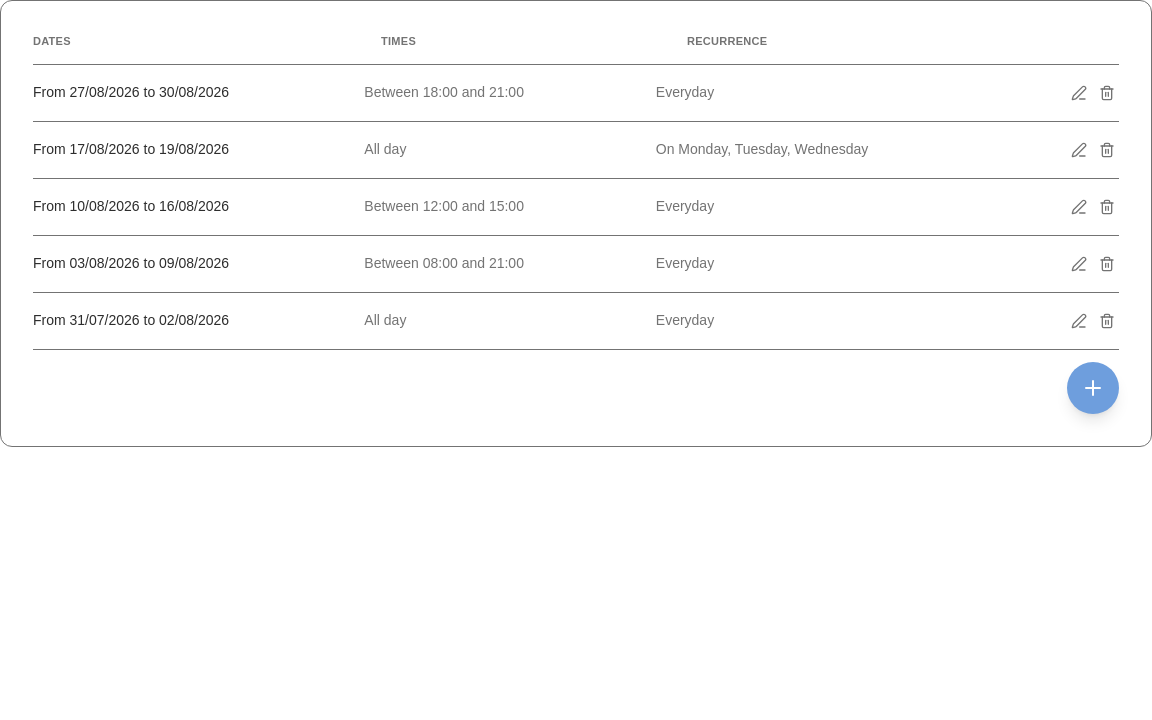
Test: Availability › adds a specific-date entry using the typed dd/mm/yyyy value
This screenshot has width=1152, height=720.
Click the button named "Add availability".
click(1093, 388)  # box [1067,362,1119,414]
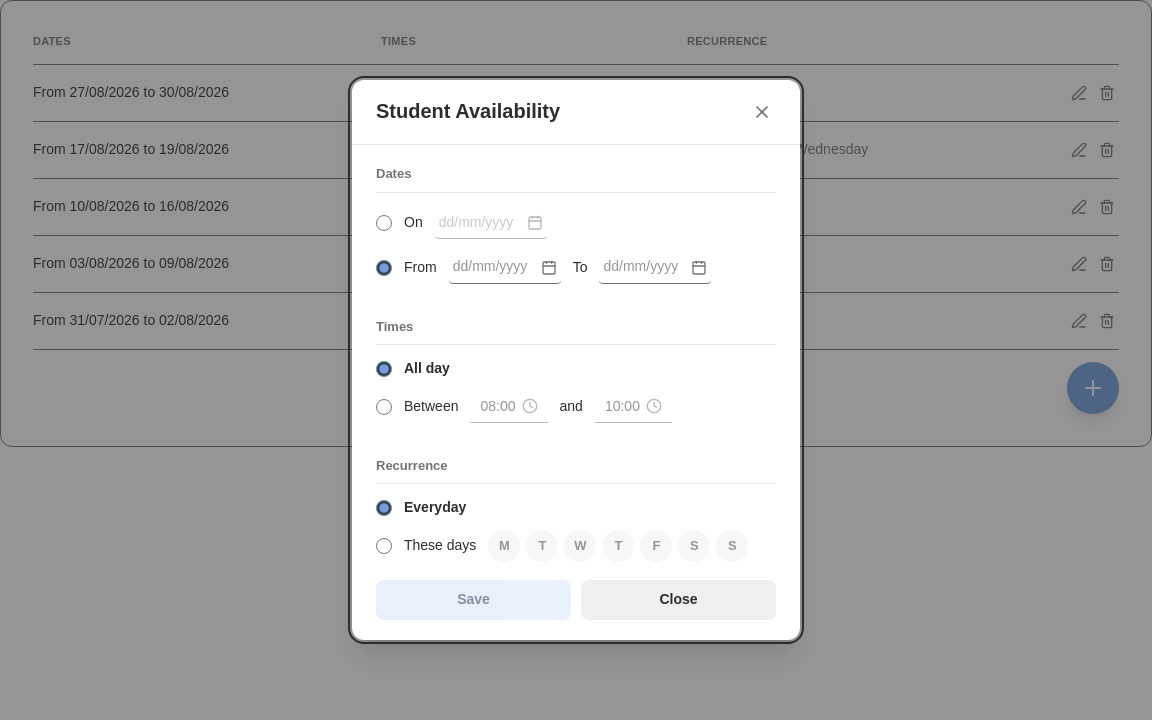
Click the radio button labelled "On".
click(384, 223)  # box [376,215,392,231]
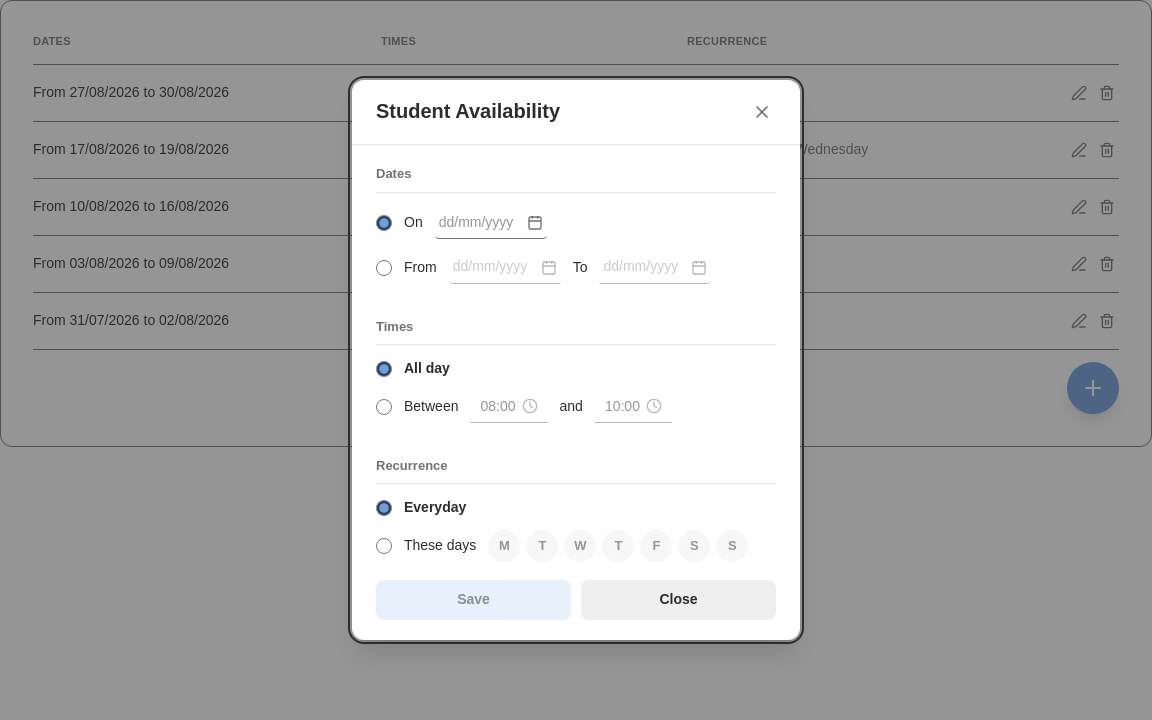
Type "27/08/2026" into the field named "Date".
click(491, 223); type("27/08/2026")  # box [435,207,547,239]
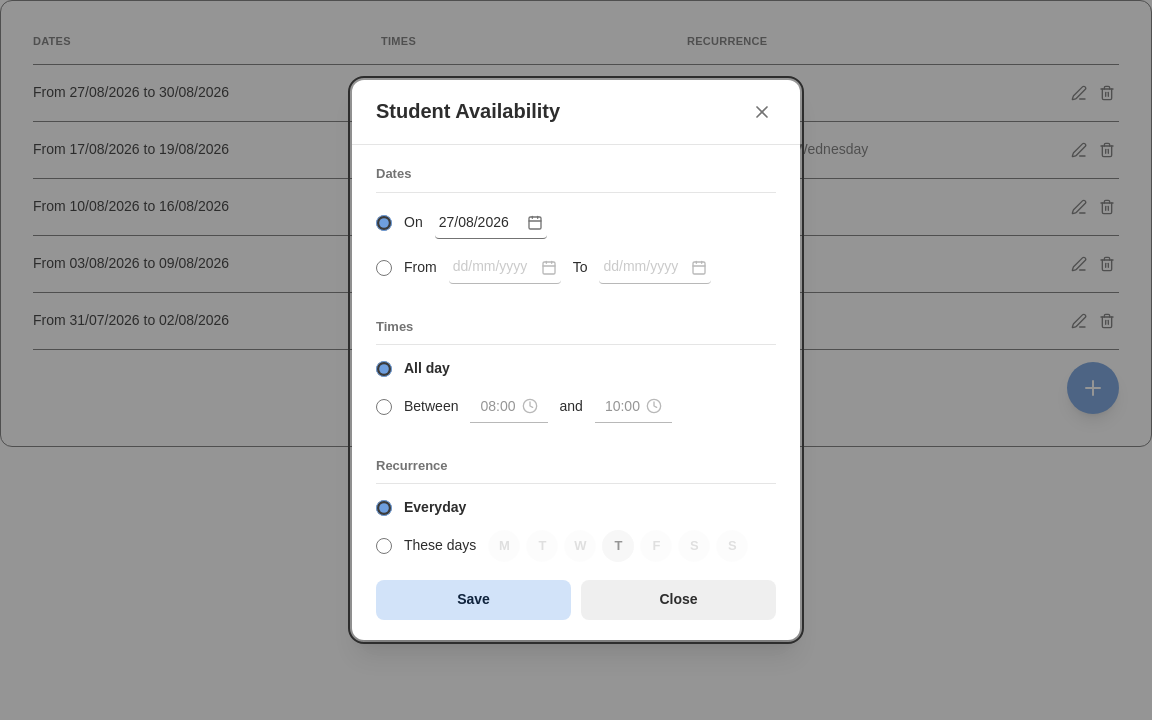
Click the button "Save".
click(474, 600)  # box [376,580,571,620]
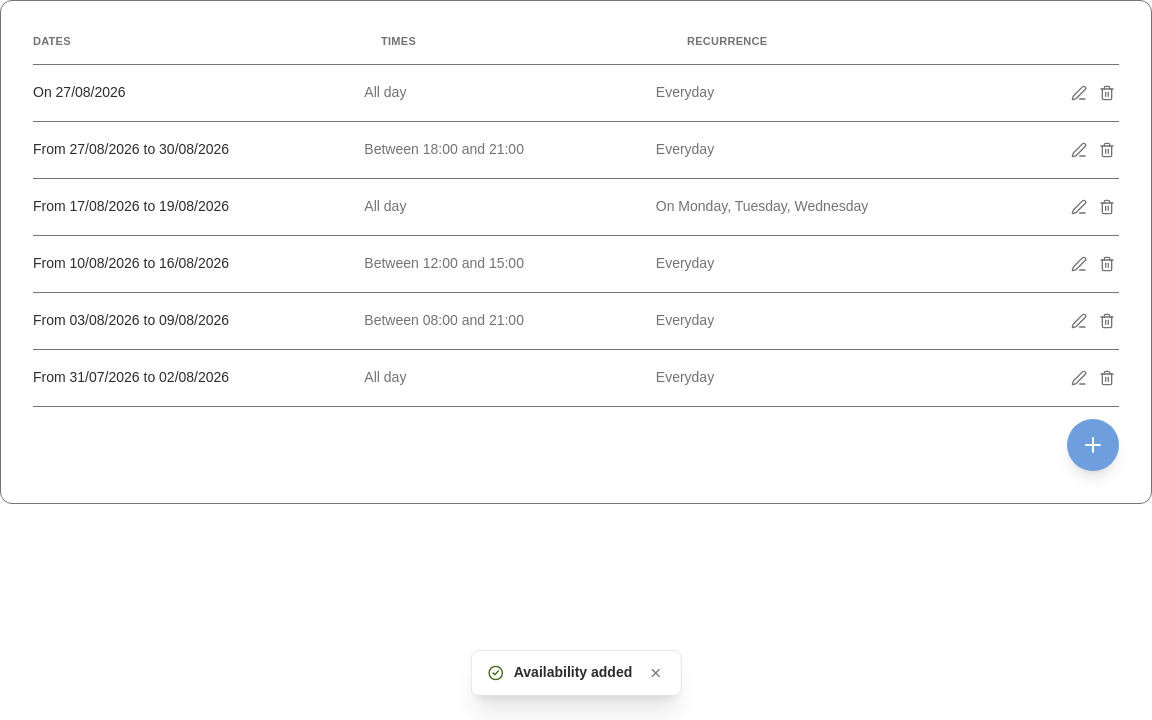
Expected: the text "On 27/08/2026" is shown, [33,84,126,100]
